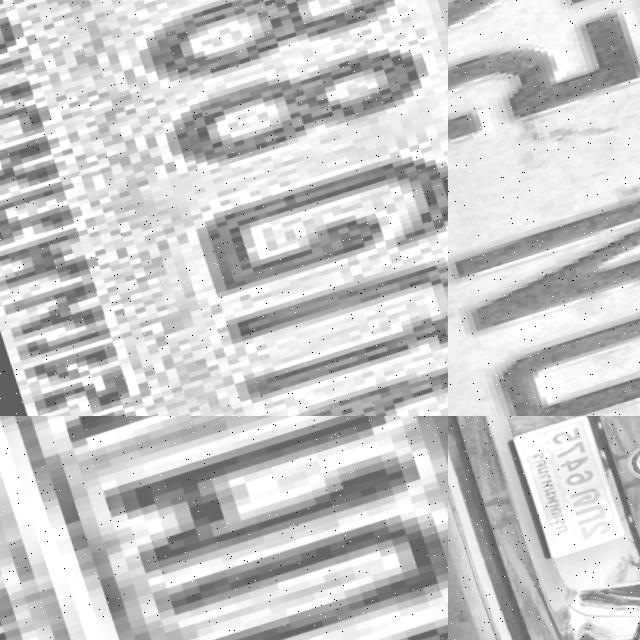license-plate: (0, 0, 448, 416), (0, 416, 448, 640), (448, 0, 640, 416), (500, 416, 622, 566)
